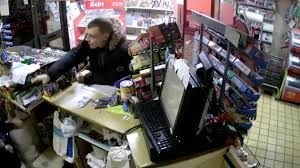gun: (3, 70, 54, 99)
